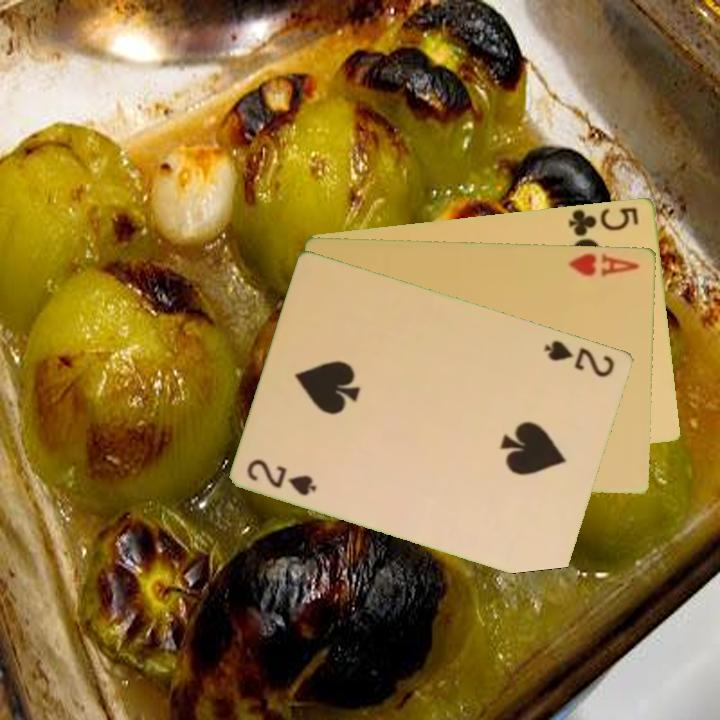2s: (541, 336, 618, 380), (244, 455, 320, 499)
5c: (565, 203, 642, 239)
Ah: (565, 249, 643, 279)
